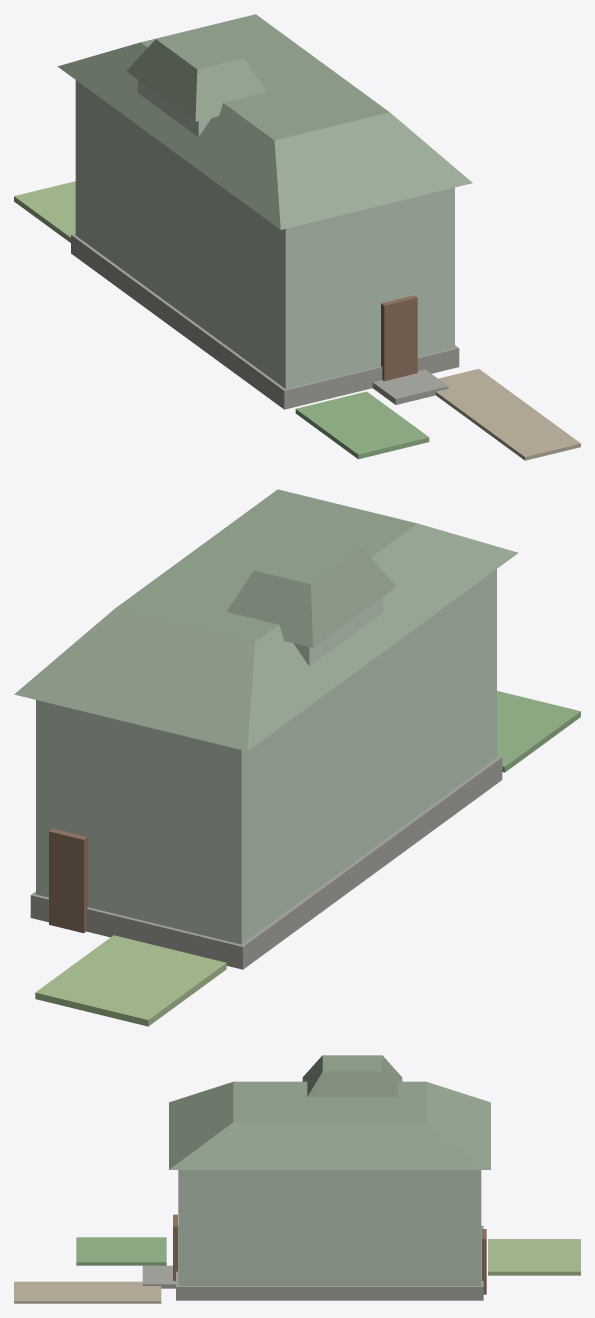
The picture shows the model from 3 angles, top to bottom: view 1: azimuth 30°, elevation 25°; view 2: azimuth 150°, elevation 25°; view 3: azimuth 270°, elevation 25°; orthographic projection. The views are drawn at different scales.
Parts seen in each view (by area): view 1: MainBody, MainRoof, TowerCap, StonePlinth, Driveway, FrontGreenVerge, PublicDoor, RearYardPatch, PublicStep, GardenTower; view 2: MainBody, MainRoof, TowerCap, StonePlinth, RearYardPatch, FrontGreenVerge, ServiceDoor, GardenTower; view 3: MainBody, MainRoof, StonePlinth, TowerCap, RearYardPatch, Driveway, FrontGreenVerge, PublicStep.
Boxes of the visible parts, x1,y1,x2,y2 form: MainBody: [75, 80, 454, 388]; MainRoof: [57, 14, 472, 229]; TowerCap: [126, 27, 266, 121]; StonePlinth: [71, 233, 459, 409]; Driveway: [435, 368, 580, 460]; FrontGreenVerge: [295, 391, 429, 459]; PublicDoor: [381, 295, 417, 381]; RearYardPatch: [14, 181, 75, 242]; PublicStep: [372, 369, 448, 404]; GardenTower: [137, 80, 211, 136]; MainBody: [36, 569, 496, 944]; MainRoof: [14, 489, 518, 751]; TowerCap: [226, 533, 396, 647]; StonePlinth: [30, 756, 502, 969]; RearYardPatch: [35, 935, 226, 1026]; FrontGreenVerge: [497, 691, 580, 772]; ServiceDoor: [49, 828, 87, 933]; GardenTower: [293, 597, 383, 666]; MainBody: [178, 1170, 481, 1285]; MainRoof: [169, 1081, 490, 1169]; StonePlinth: [176, 1225, 483, 1300]; TowerCap: [302, 1055, 402, 1096]; RearYardPatch: [488, 1239, 580, 1275]; Driveway: [14, 1281, 161, 1303]; FrontGreenVerge: [76, 1237, 166, 1265]; PublicStep: [142, 1265, 175, 1288].
Size of the model in its own units: 6.04 by 7.85 by 21.34.
